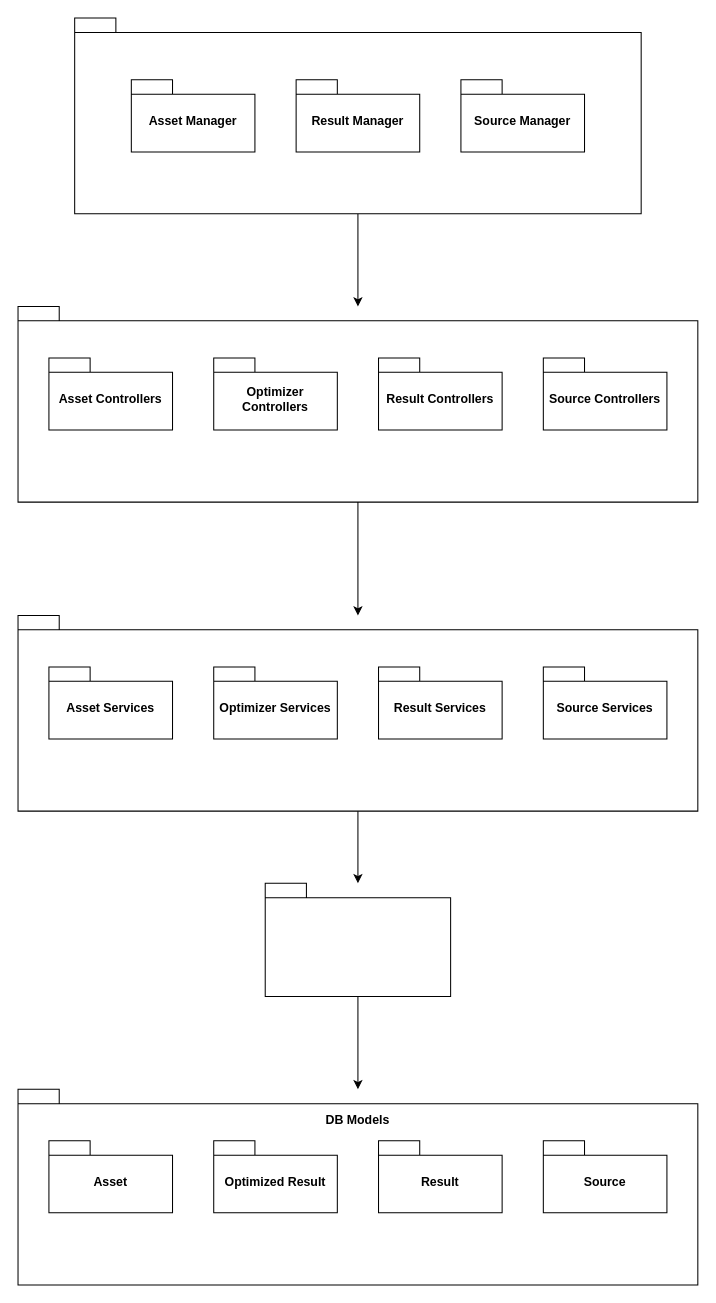
The diagram is 716 pixels wide and 1303 high, and some of its shapes have lost their labels. The shapes that lost their labels are listed below. From the top down, each one's box as (x1, y1, x2, y2) in pixels, then its label:
(74, 17, 641, 214): Frontend
(17, 305, 698, 502): Backend Controllers (CRUD Operations)
(17, 614, 698, 811): Backend Services (Business Logic)
(264, 882, 451, 997): Backend Data
